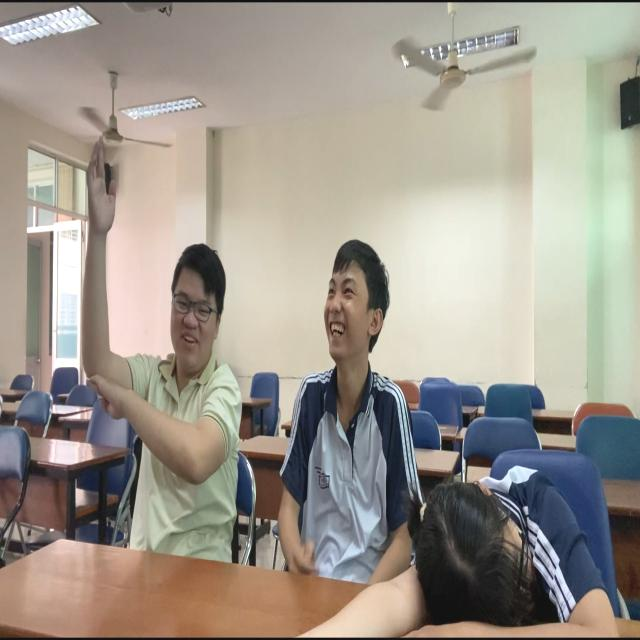raise_hand: (75, 130, 248, 544)
sleep: (338, 457, 635, 640)
